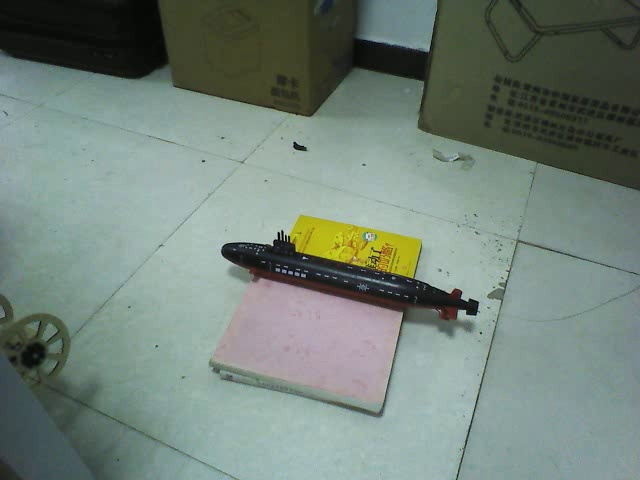submarine: (221, 232, 481, 330)
